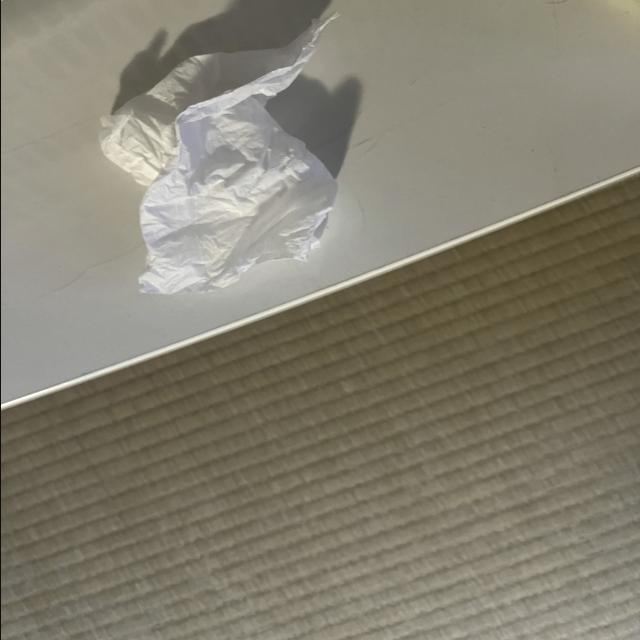Paper: (80, 20, 360, 299)
